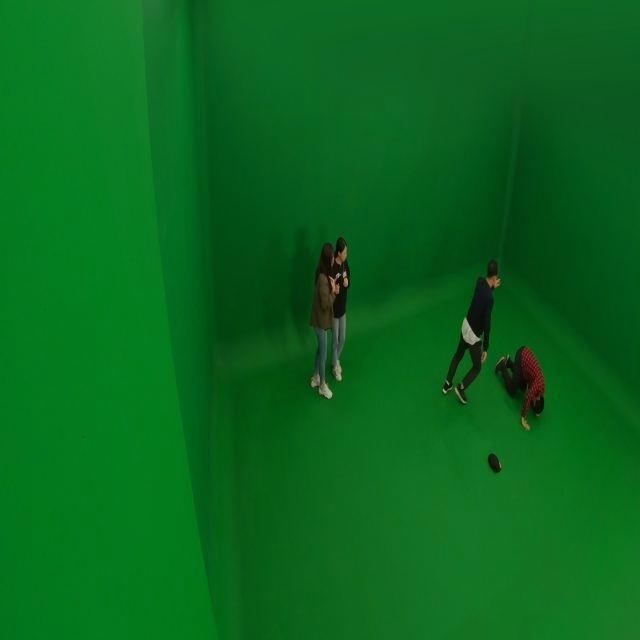fight: (437, 256, 502, 404), (494, 340, 545, 428)
non-fight: (305, 239, 337, 398), (329, 233, 353, 384)
